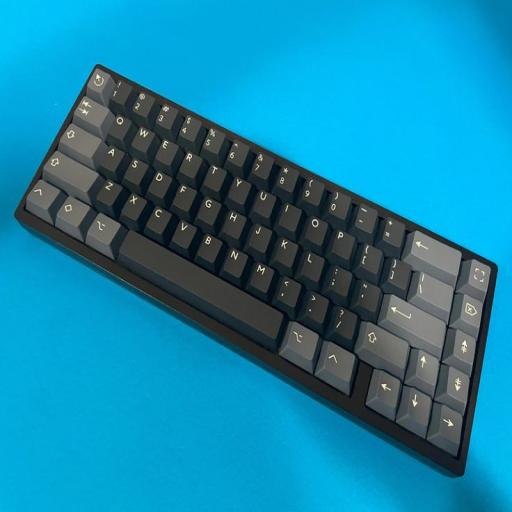KEYBOARD-2: (15, 65, 497, 475)
